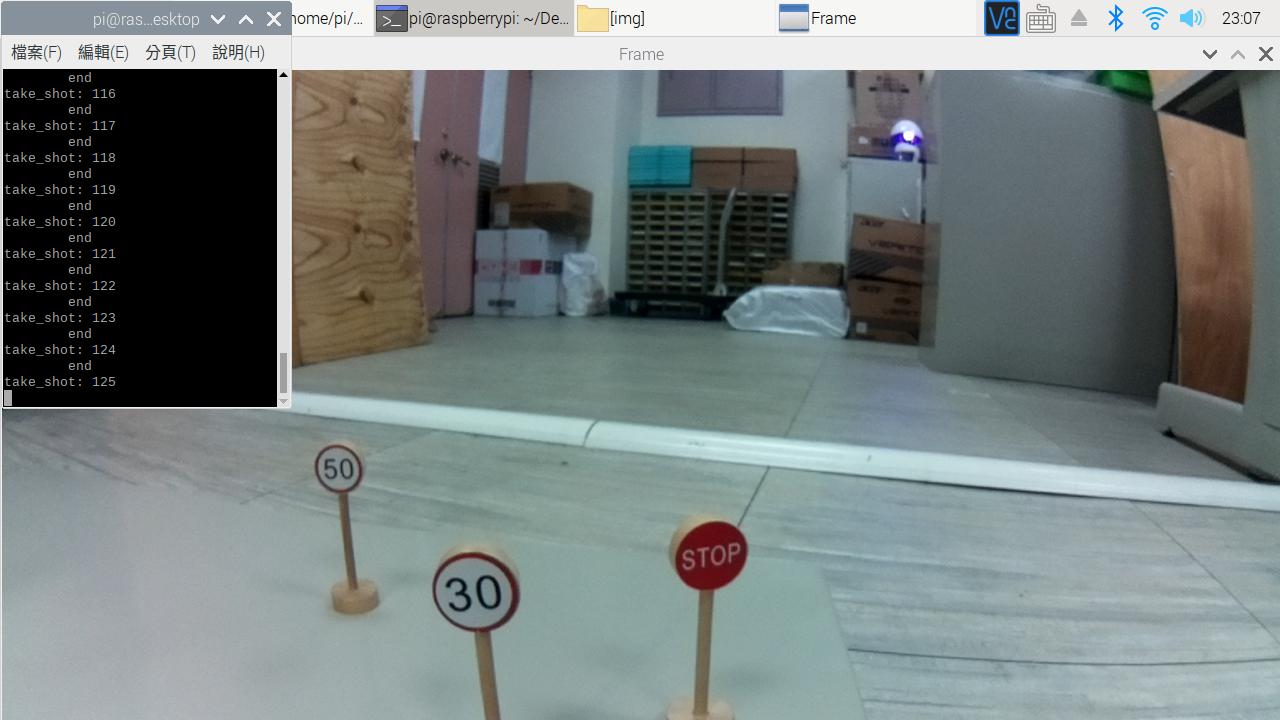Speed30: (416, 538, 546, 643)
Speed50: (300, 433, 379, 505)
Stop: (644, 511, 778, 607)
